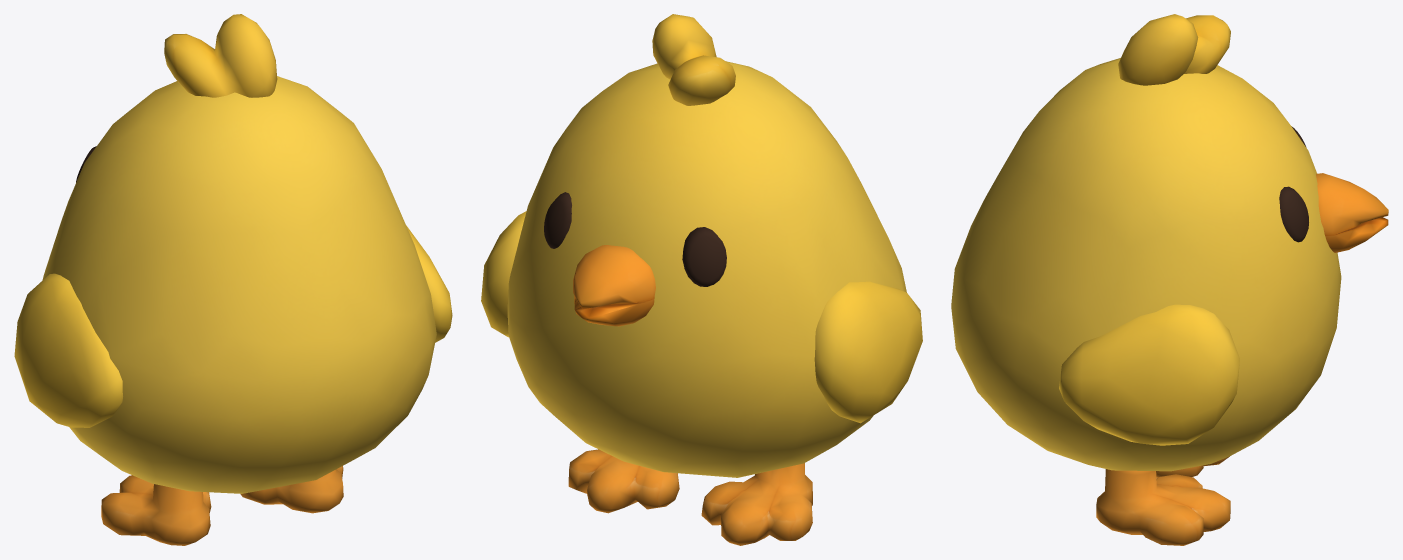
Rendered from chick-textured.glb.
3 views of the same model, side by side, from view 1: azimuth 30°, elevation 25°; view 2: azimuth 150°, elevation 25°; view 3: azimuth 270°, elevation 25° (orthographic).
Visible parts, largest first — view 1: Body, Wing.R, Crest, Leg.R, Leg.L, Wing.L; view 2: Body, Wing.R, Leg.R, Beak, Crest, Leg.L, Wing.L, Eye.R, Eye.L; view 3: Body, Wing.L, Leg.L, Crest, Beak, Eye.L.
Boxes of the visible parts, x1,y1,x2,y2 form: Body: (42,76,436,493); Wing.R: (14,273,122,427); Crest: (164,14,277,97); Leg.R: (101,475,211,545); Leg.L: (240,466,343,513); Wing.L: (406,225,452,342); Body: (507,61,906,477); Wing.R: (814,281,922,423); Leg.R: (701,463,812,545); Beak: (573,245,655,326); Crest: (652,14,735,105); Leg.L: (568,449,679,513); Wing.L: (481,211,526,337); Eye.R: (682,227,726,286); Eye.L: (544,192,571,248); Body: (951,58,1341,471); Wing.L: (1059,304,1239,445); Leg.L: (1096,469,1230,545); Crest: (1118,14,1230,85); Beak: (1316,173,1388,252); Eye.L: (1279,186,1308,242).
Size of the model in its own units: 0.8362 by 1 by 0.8175.
Materials: 6 (5 with a texture image).
